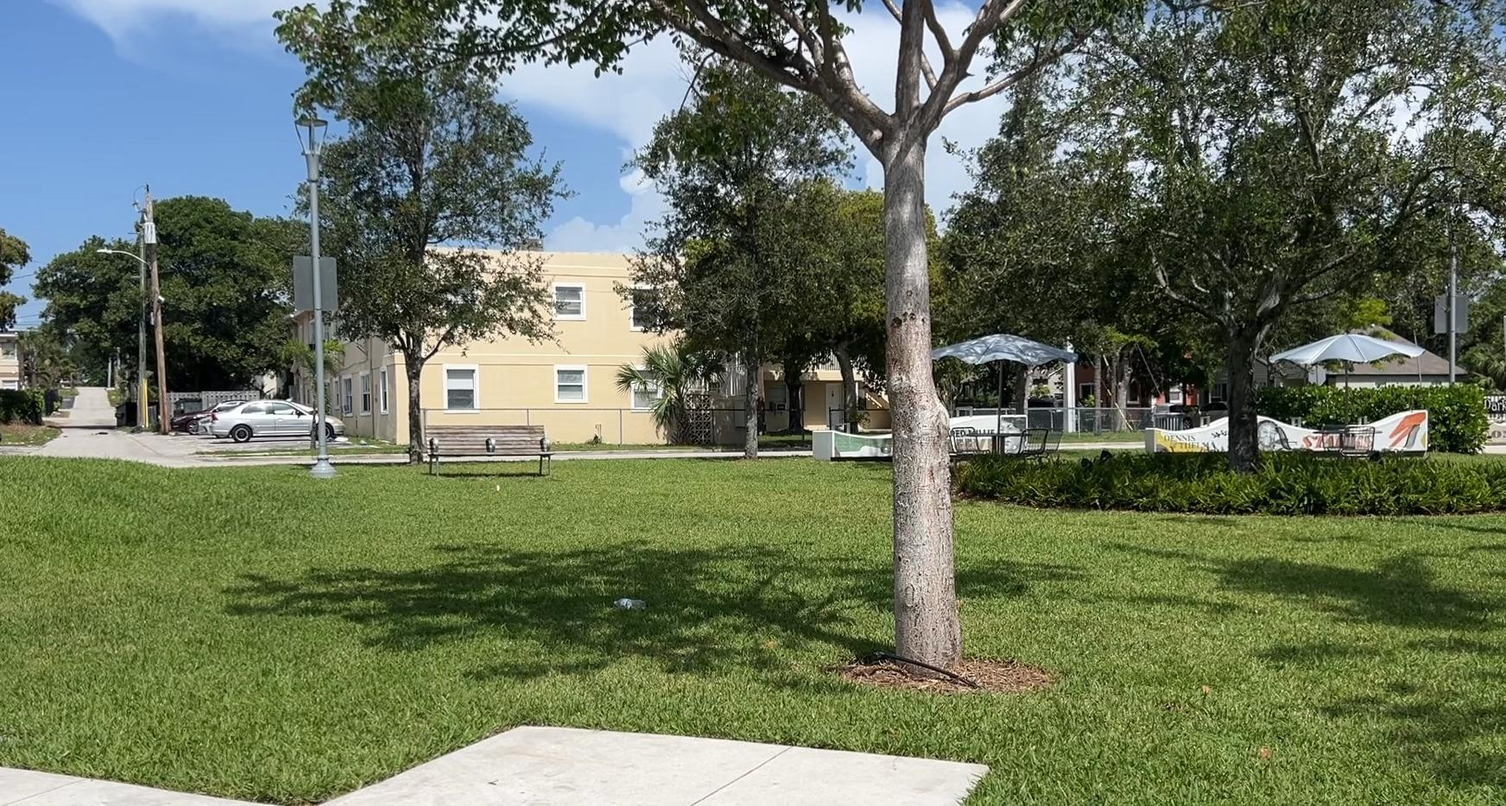Trash: (598, 584, 661, 628)
